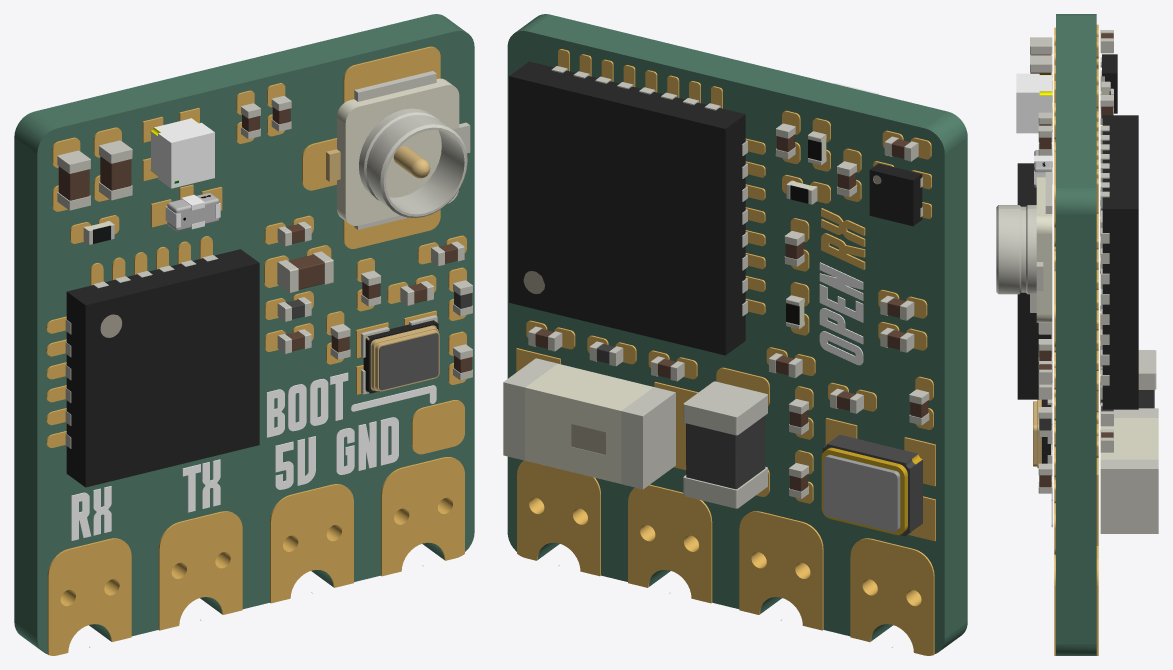
File: board-OpenRX-Lite-UFL.glb
3 views of the same model, side by side, from view 1: azimuth 30°, elevation 25°; view 2: azimuth 150°, elevation 25°; view 3: azimuth 270°, elevation 25° (orthographic). The views are drawn at different scales.
Parts seen in each view (by area): view 1: board-rx; view 2: board-rx; view 3: board-rx.
Boxes of the visible parts, left/top/right/bottom form: board-rx: left=14, top=14, right=474, bottom=655; board-rx: left=503, top=14, right=967, bottom=655; board-rx: left=996, top=14, right=1158, bottom=655.
Size of the model in its own units: 0.01 by 0.0115 by 0.00363.
